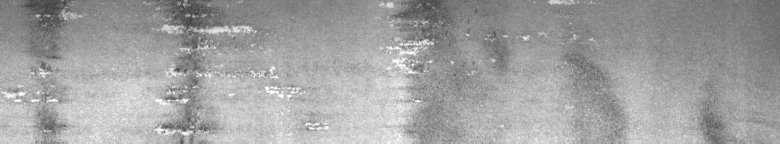hc: (4, 4, 82, 136)
